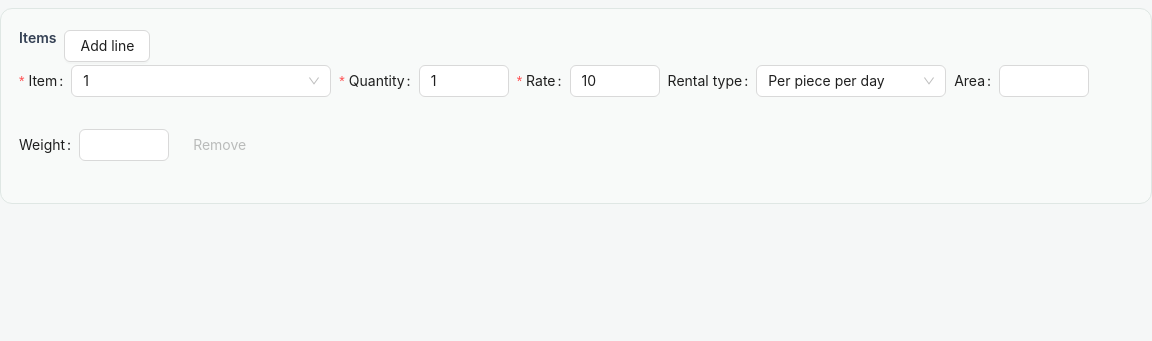
Test: quotation editor behavior › adds and removes dynamic item rows
Click the button "Add line" at x=108, y=46, box [64,30,150,62]
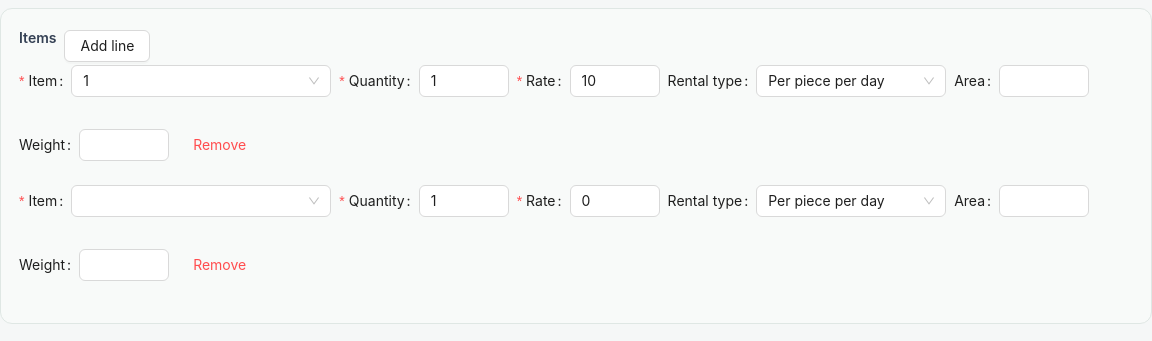
Expected: the number of buttons "Remove" is 2
Click the 2nd button "Remove" at x=220, y=265, box [177,249,262,281]
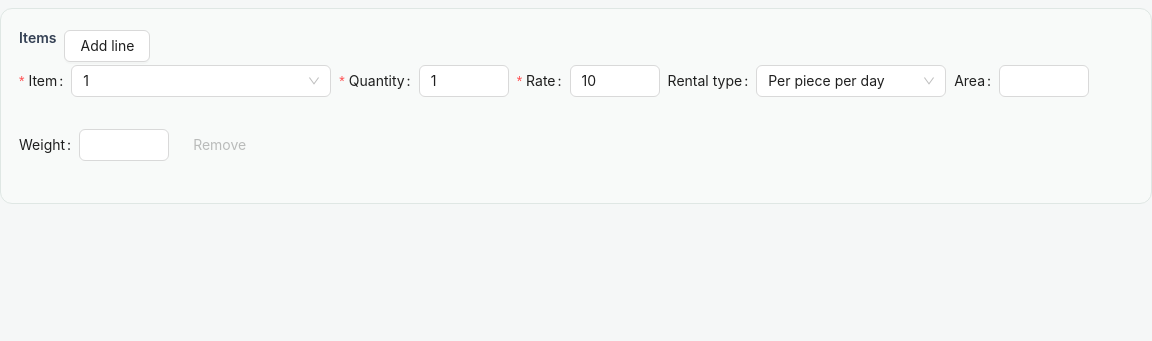
Expected: the number of buttons "Remove" is 1, [177,129,262,161]
